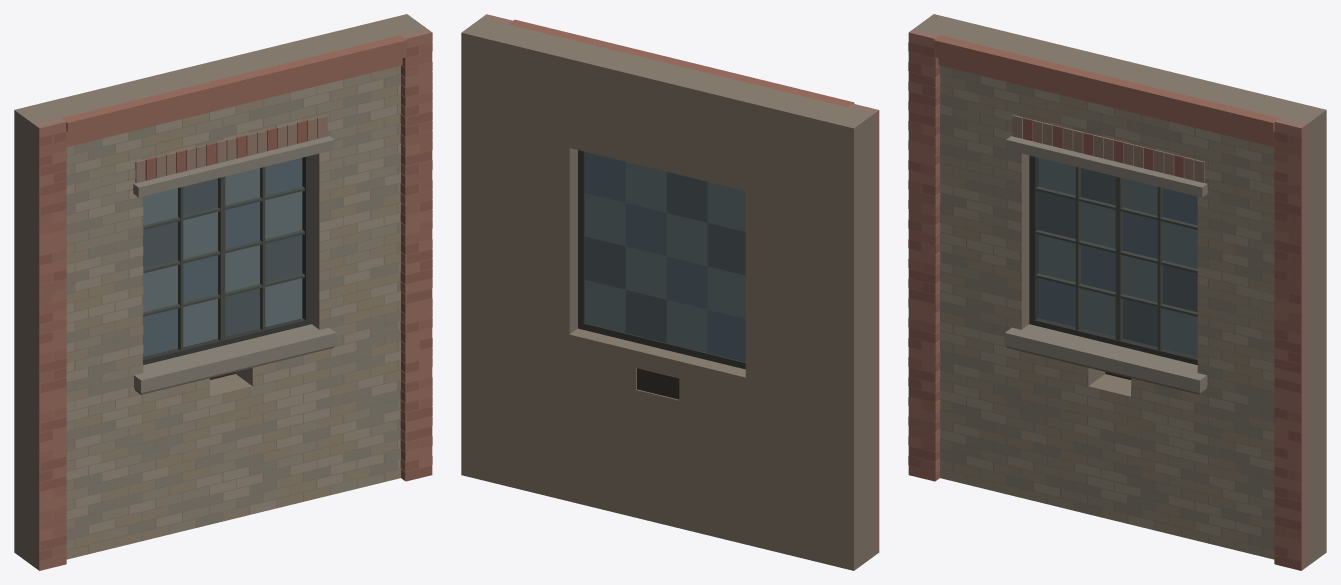
Rendered from jingan-fuxin-flour-mill-riverfront-brick-window-lod.glb.
The picture shows the model from 3 angles, left to right: view 1: azimuth 30°, elevation 25°; view 2: azimuth 150°, elevation 25°; view 3: azimuth 330°, elevation 25°; orthographic projection.
Parts seen in each view (by area): view 1: 福新面粉一厂沿河厂房红砖壁柱与矩形窗; view 2: 福新面粉一厂沿河厂房红砖壁柱与矩形窗; view 3: 福新面粉一厂沿河厂房红砖壁柱与矩形窗.
Part boxes in pixels (<box>): 福新面粉一厂沿河厂房红砖壁柱与矩形窗: <box>14,14,432,570</box>; 福新面粉一厂沿河厂房红砖壁柱与矩形窗: <box>461,14,879,570</box>; 福新面粉一厂沿河厂房红砖壁柱与矩形窗: <box>908,14,1326,570</box>.
Bounding box in the file's own units: 2.88 × 3.1 × 0.355.
